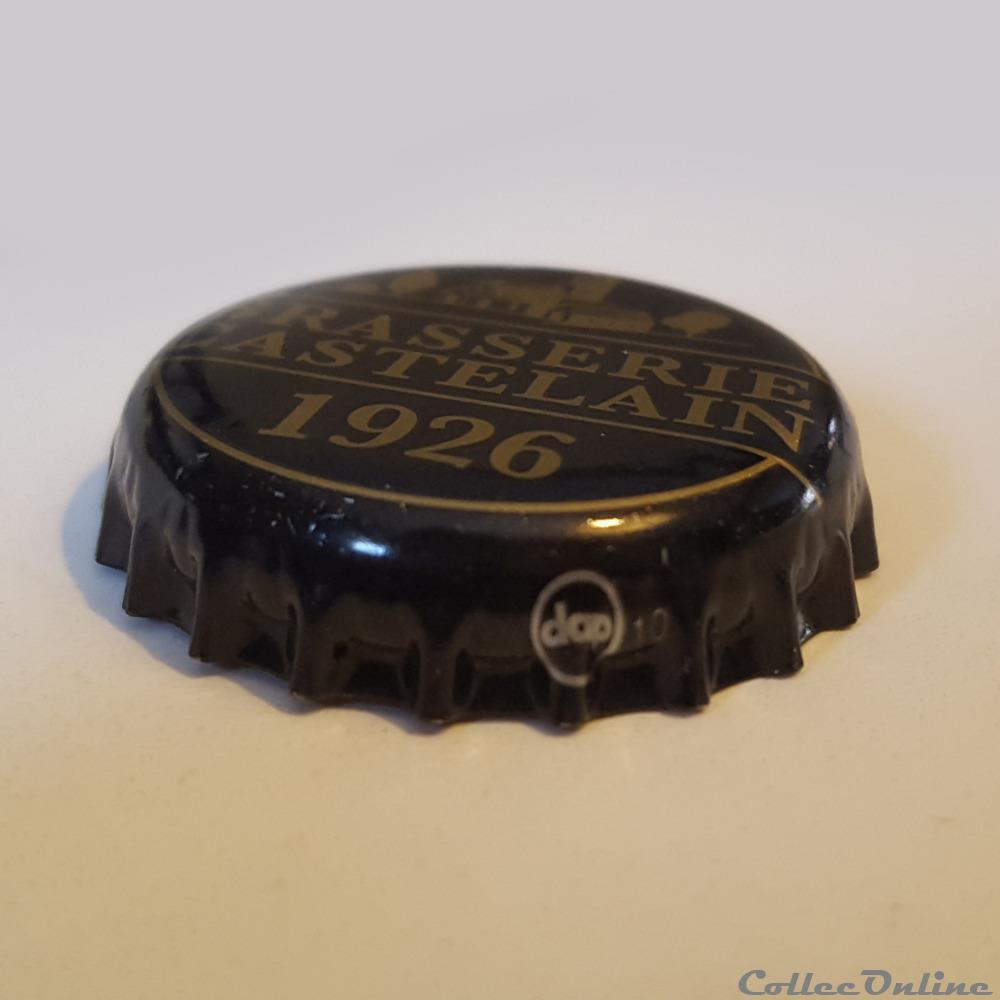metal: (95, 267, 880, 727)
